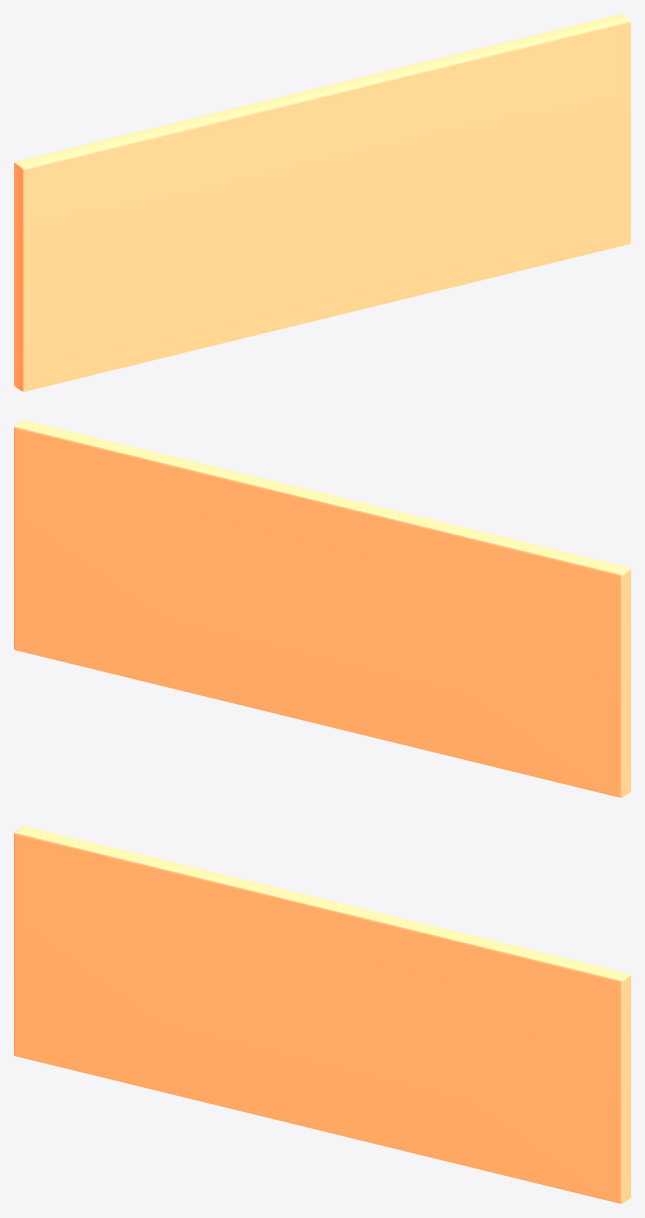
The model's file is SM_Wall_ForecastleFront.fbx.
3 views of the same model, one above another, from view 1: azimuth 30°, elevation 25°; view 2: azimuth 150°, elevation 25°; view 3: azimuth 330°, elevation 25° (orthographic).
Visible parts, largest first — view 1: SM_Wall_ForecastleFront; view 2: SM_Wall_ForecastleFront; view 3: SM_Wall_ForecastleFront.
Boxes of the visible parts, <box> form: SM_Wall_ForecastleFront: <box>14,14,630,391</box>; SM_Wall_ForecastleFront: <box>14,420,630,797</box>; SM_Wall_ForecastleFront: <box>14,826,630,1203</box>.
Bounding box in the file's own units: 698 × 20 × 245.
